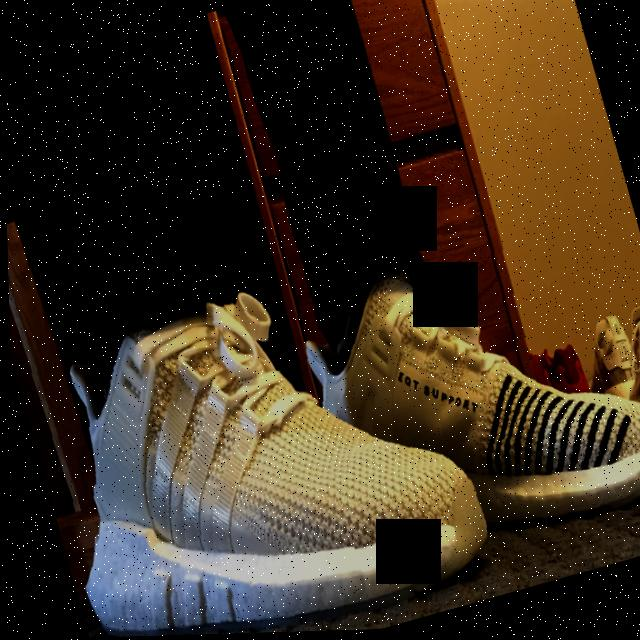shoe: (8, 229, 510, 640), (279, 203, 640, 602), (513, 321, 604, 433), (567, 302, 640, 423)
